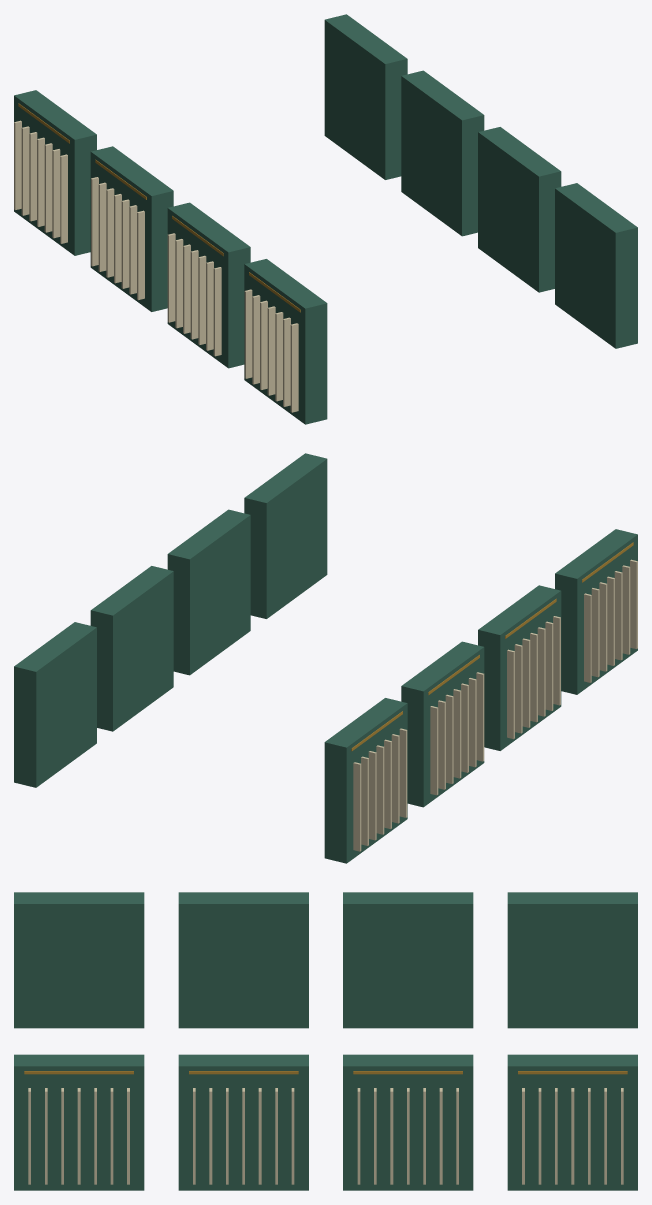
File: vls8_cell_thermal.obj
The picture shows the model from 3 angles, top to bottom: view 1: azimuth 30°, elevation 25°; view 2: azimuth 150°, elevation 25°; view 3: azimuth 270°, elevation 25°; orthographic projection. The views are drawn at different scales.
Parts seen in each view (by area): view 1: vls8_cell_thermal; view 2: vls8_cell_thermal; view 3: vls8_cell_thermal.
Part boxes in pixels (bbox=[...]): vls8_cell_thermal: bbox=[14, 14, 637, 424]; vls8_cell_thermal: bbox=[14, 453, 637, 863]; vls8_cell_thermal: bbox=[14, 892, 637, 1190].
Size of the model in its own units: 3.12 by 1 by 4.55.
